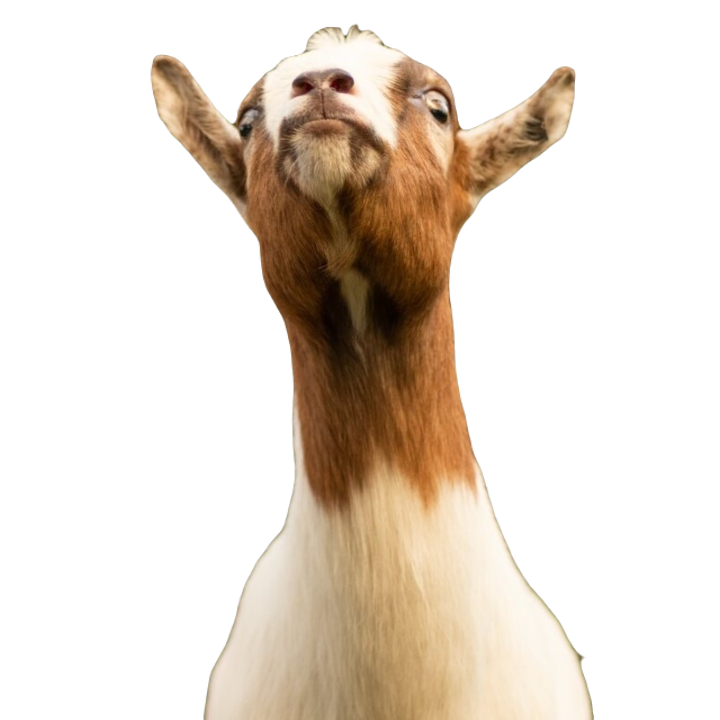Goat: (146, 27, 596, 719)
